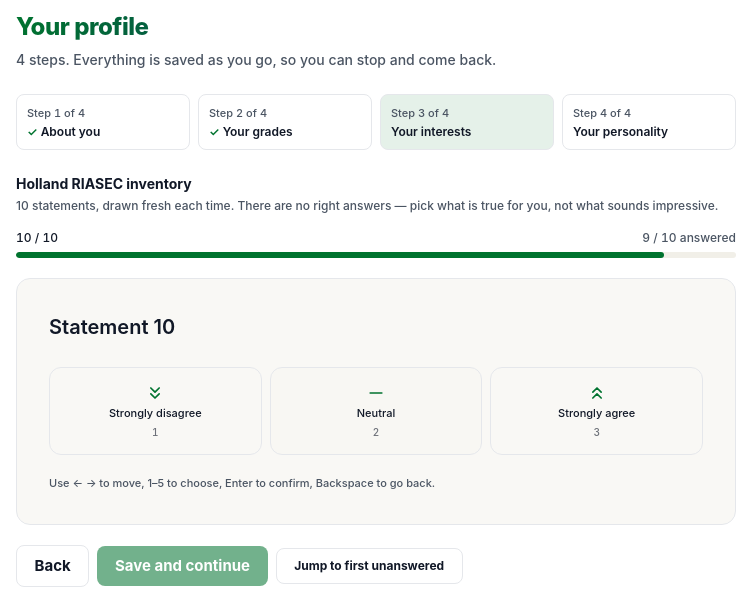
Test: assessment wizard › keeps the finish button disabled until every statement is answered
The image size is (753, 604).
Expected: the button "Save and continue" is disabled, [97,546,268,586]
Click the radio button labelled "Neutral".
click(376, 411)  # box [270,367,482,455]
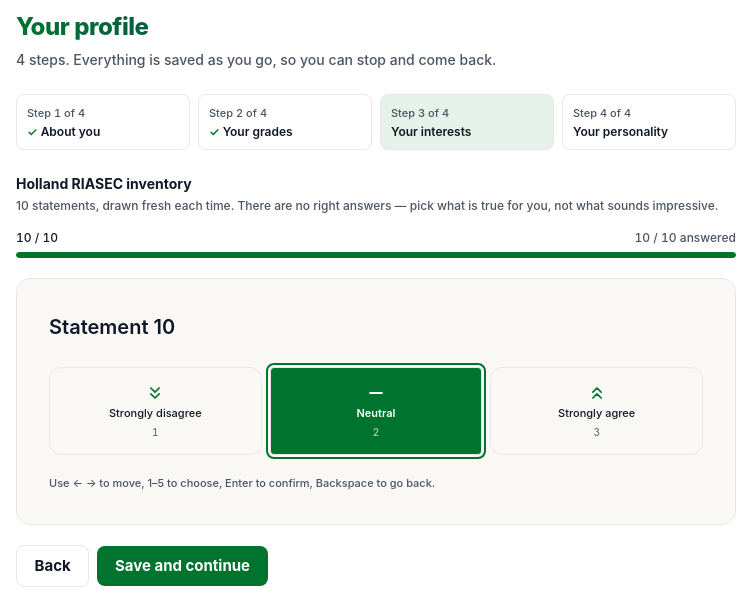
Expected: the button "Save and continue" is enabled, [97,546,268,586]
